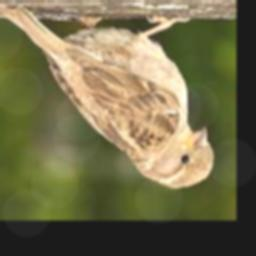Sparrow: (0, 5, 212, 188)
